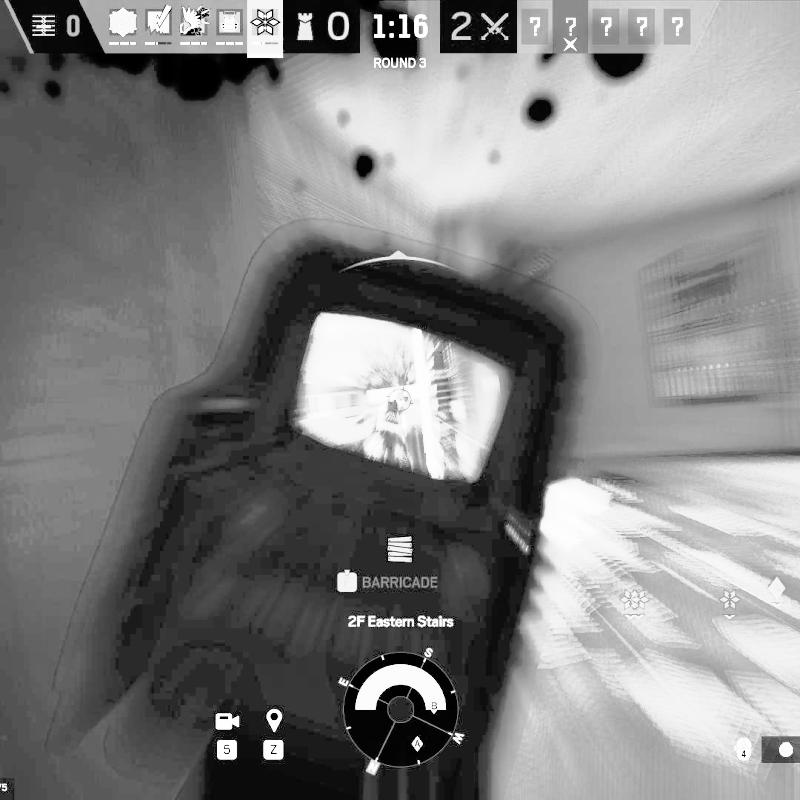Character: (369, 387, 412, 463)
Head: (396, 390, 411, 407)
